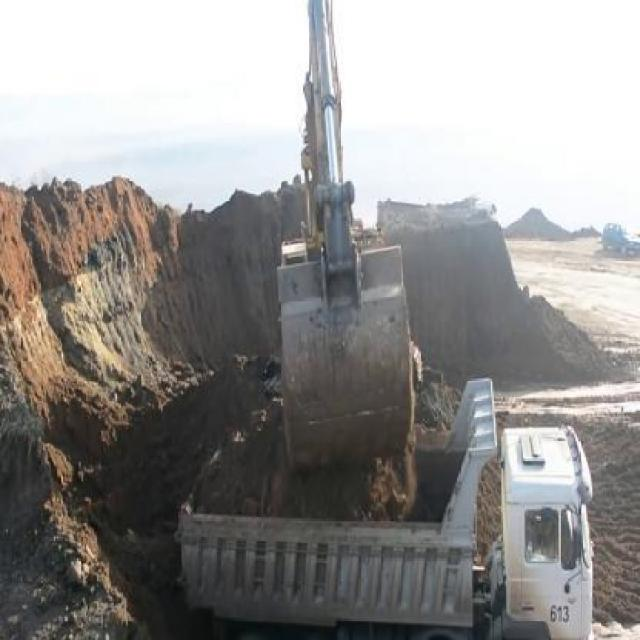Dump Truck: (176, 375, 593, 639)
Excavator: (260, 0, 418, 469)
